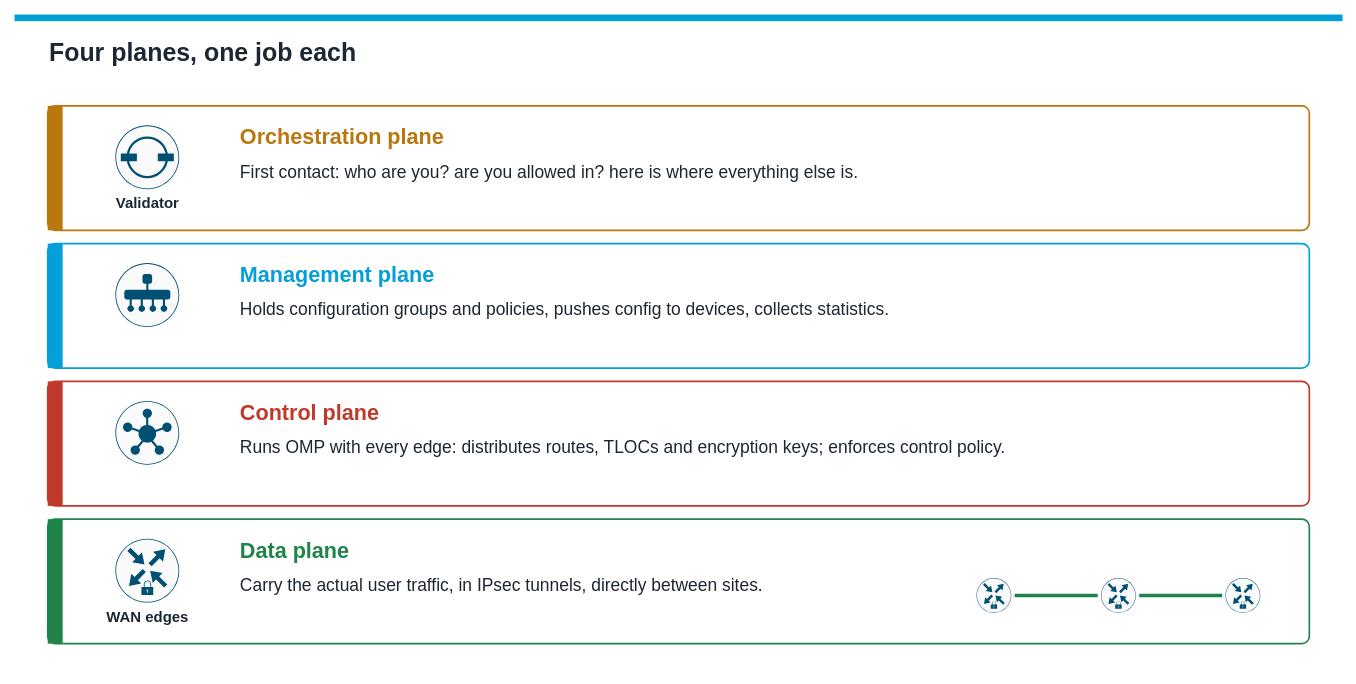
The diagram is 1356 pixels wide and 684 high, and some of its shapes have lost their labels. Each missing label, with the centre of its shape:
"Controller" goes at (x=147, y=432).
"Manager" goes at (x=147, y=294).
